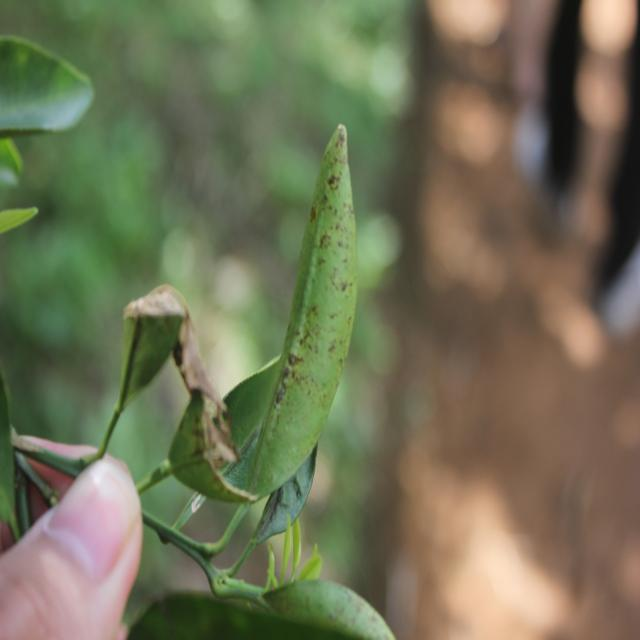melanose: (248, 126, 360, 482)
